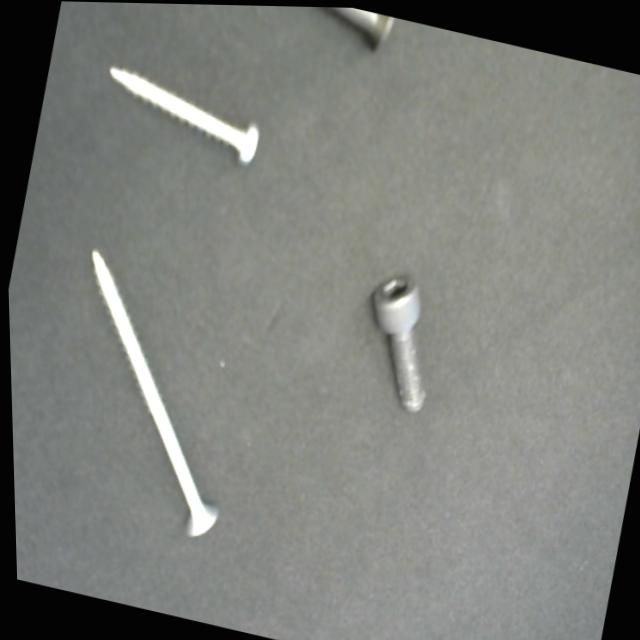FlatHeadSocketScrew: (285, 5, 409, 68)
SheetMetalScrew: (79, 37, 279, 191)
SocketHeadCapScrew: (344, 256, 455, 432)
WoodScrew: (27, 231, 276, 561)
